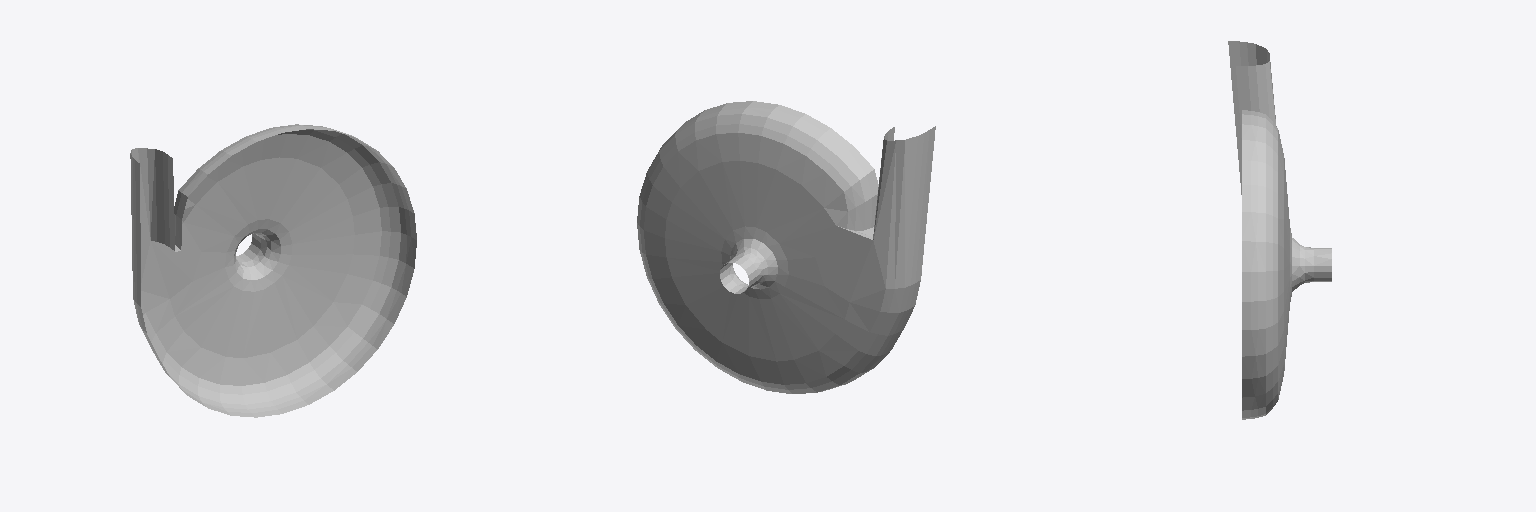
Rendered from spiral_smooth.obj.
3 views of the same model, side by side, from view 1: azimuth 30°, elevation 25°; view 2: azimuth 150°, elevation 25°; view 3: azimuth 270°, elevation 25° (orthographic).
Visible parts, largest first — view 1: spiral_final.001_Circle.005; view 2: spiral_final.001_Circle.005; view 3: spiral_final.001_Circle.005.
Boxes of the visible parts, x1=… form: spiral_final.001_Circle.005: x1=130, y1=124, x2=416, y2=417; spiral_final.001_Circle.005: x1=637, y1=101, x2=935, y2=393; spiral_final.001_Circle.005: x1=1228, y1=41, x2=1331, y2=419.
Size of the model in its own units: 2.11 by 2.07 by 0.6684.